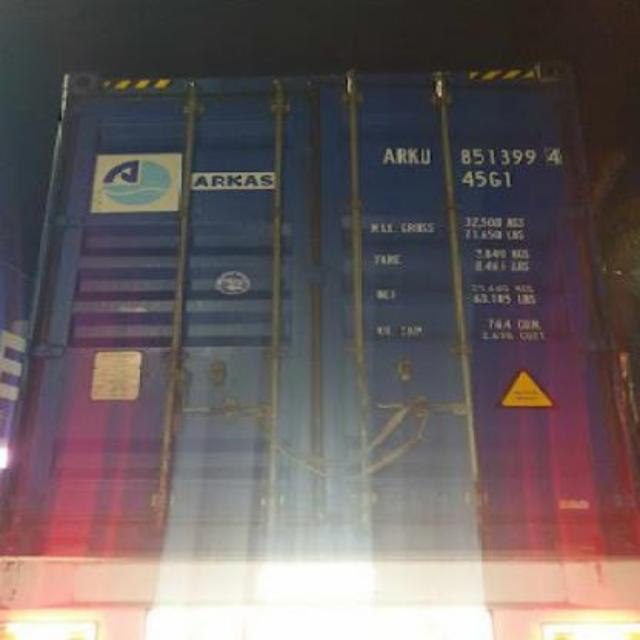1: (486, 146, 494, 168)
3: (498, 146, 510, 168)
4: (546, 149, 562, 167)
5: (472, 147, 484, 165)
8: (458, 144, 470, 166)
9: (510, 147, 526, 167), (526, 148, 538, 168)
A: (382, 147, 396, 163)
K: (408, 146, 420, 166)
R: (398, 146, 408, 164)
U: (422, 147, 432, 167)
